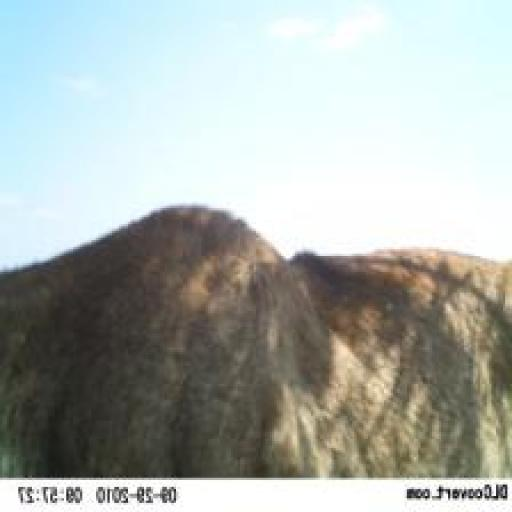lion: (2, 183, 510, 486)
